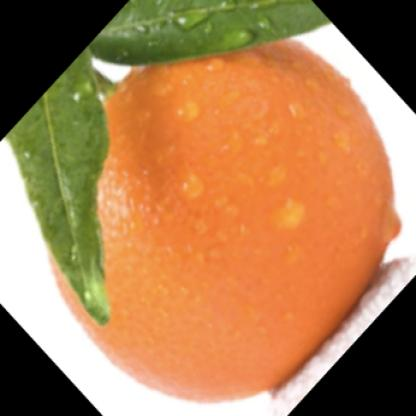fresh: (50, 38, 397, 396)
